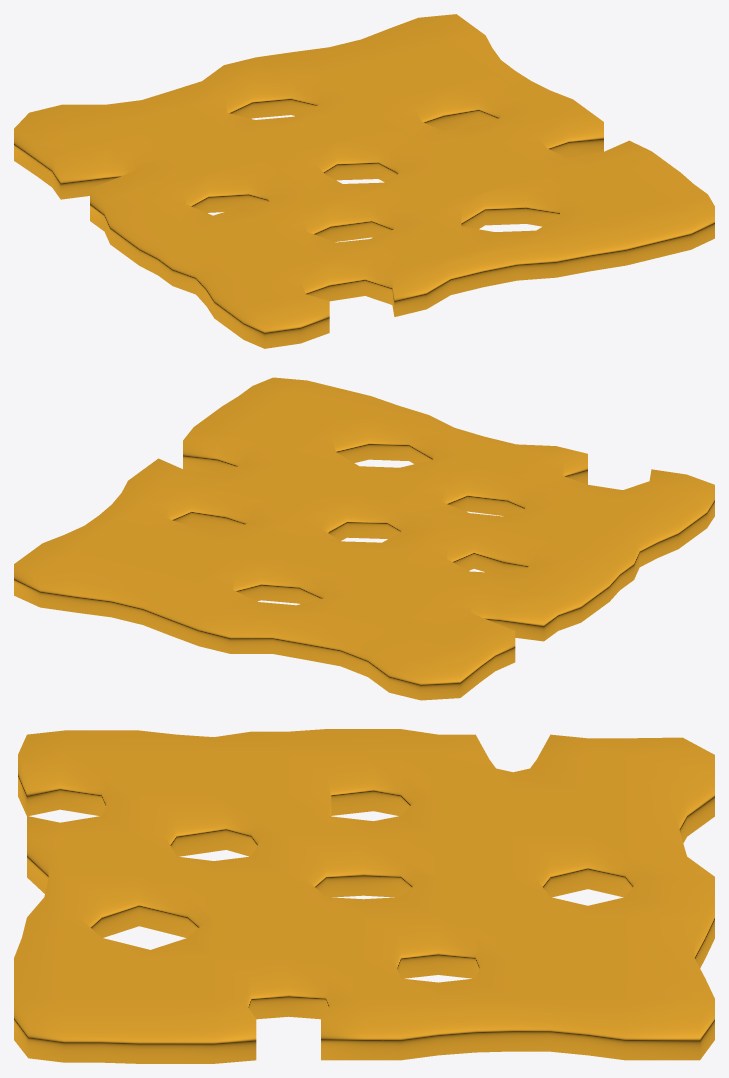
The model's file is cheese.fbx.
The picture shows the model from 3 angles, top to bottom: view 1: azimuth 30°, elevation 25°; view 2: azimuth 150°, elevation 25°; view 3: azimuth 270°, elevation 25°; orthographic projection. The views are drawn at different scales.
Parts seen in each view (by area): view 1: Cube; view 2: Cube; view 3: Cube.
Boxes of the visible parts, x1,y1,x2,y2 form: Cube: (14, 14, 714, 348); Cube: (14, 377, 714, 700); Cube: (14, 729, 714, 1063).
Size of the model in its own units: 102 by 101 by 6.64.
